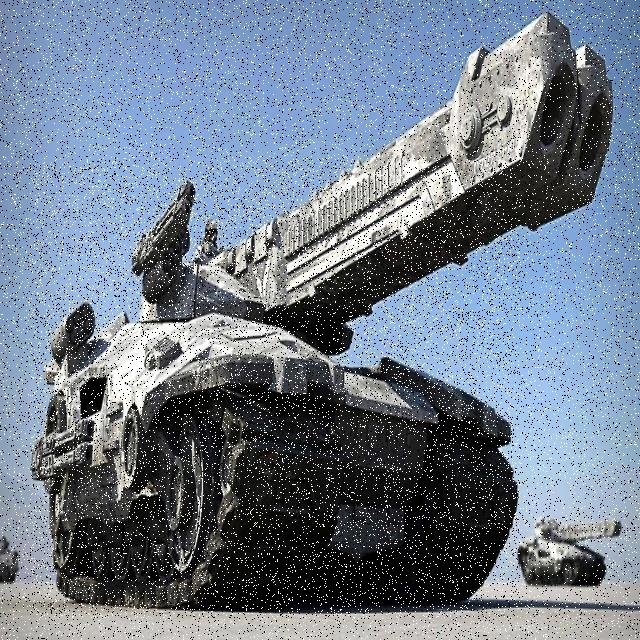MIL_MBT: (31, 158, 520, 618)
